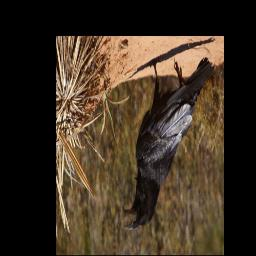Crow: (123, 57, 215, 230)
